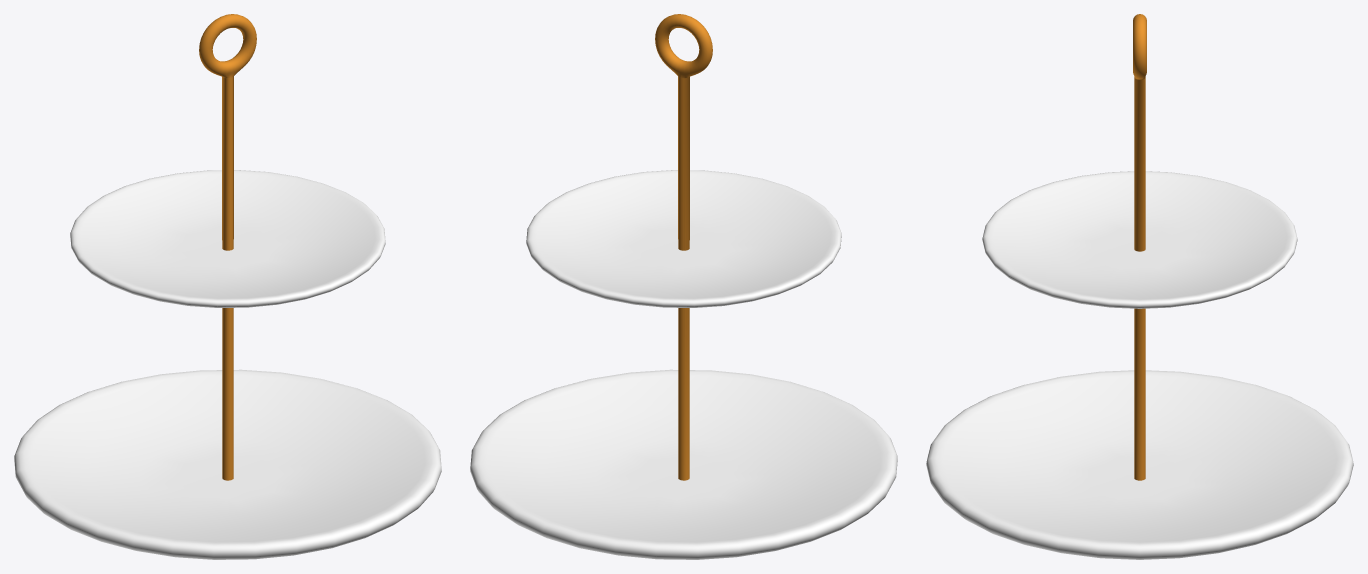
Rendered from SM_two_tier_plate.fbx.
3 views of the same model, side by side, from view 1: azimuth 30°, elevation 25°; view 2: azimuth 150°, elevation 25°; view 3: azimuth 270°, elevation 25° (orthographic).
Visible parts, largest first — view 1: SM_two_tier_plate; view 2: SM_two_tier_plate; view 3: SM_two_tier_plate.
Boxes of the visible parts, bbox=[...] form: SM_two_tier_plate: bbox=[14, 14, 441, 559]; SM_two_tier_plate: bbox=[470, 14, 897, 559]; SM_two_tier_plate: bbox=[926, 14, 1353, 559].
Size of the model in its own units: 57.92 by 71.57 by 57.92.
Materials: 2 (2 with a texture image).
